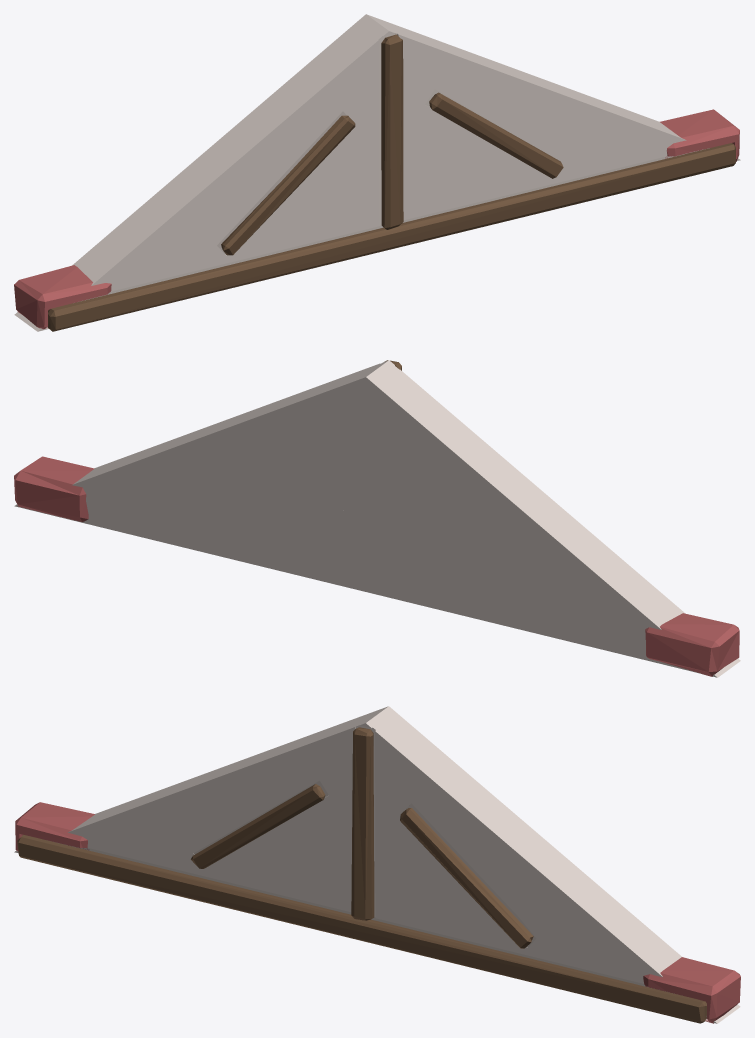
The model's file is PKF_PKX_Gable_4m_v1.fbx.
The picture shows the model from 3 angles, top to bottom: view 1: azimuth 30°, elevation 25°; view 2: azimuth 150°, elevation 25°; view 3: azimuth 330°, elevation 25°; orthographic projection.
Visible parts, largest first — view 1: PKX_Gable_4m_Chunk_12, PKX_Gable_4m_Chunk_04, PKX_Gable_4m_Chunk_06, PKX_Gable_4m_Chunk_07, PKX_Gable_4m_Chunk_09, PKX_Gable_4m_Chunk_00, PKX_Gable_4m_Chunk_05, PKX_Gable_4m_Chunk_11, PKX_Gable_4m_Chunk_10, PKX_Gable_4m_Chunk_03, PKX_Gable_4m_Chunk_15, PKX_Gable_4m_Chunk_02 (+4 smaller); view 2: PKX_Gable_4m_Chunk_04, PKX_Gable_4m_Chunk_00, PKX_Gable_4m_Chunk_06, PKX_Gable_4m_Chunk_07, PKX_Gable_4m_Chunk_09, PKX_Gable_4m_Chunk_11, PKX_Gable_4m_Chunk_05, PKX_Gable_4m_Chunk_02, PKX_Gable_4m_Chunk_10, PKX_Gable_4m_Chunk_01, PKX_Gable_4m_Chunk_03, PKX_Gable_4m_Chunk_08; view 3: PKX_Gable_4m_Chunk_12, PKX_Gable_4m_Chunk_06, PKX_Gable_4m_Chunk_00, PKX_Gable_4m_Chunk_04, PKX_Gable_4m_Chunk_09, PKX_Gable_4m_Chunk_10, PKX_Gable_4m_Chunk_11, PKX_Gable_4m_Chunk_07, PKX_Gable_4m_Chunk_05, PKX_Gable_4m_Chunk_03, PKX_Gable_4m_Chunk_15, PKX_Gable_4m_Chunk_01 (+4 smaller).
Part boxes in pixels (left/top/right/bottom): PKX_Gable_4m_Chunk_12: left=48, top=143, right=735, bottom=331; PKX_Gable_4m_Chunk_04: left=14, top=196, right=195, bottom=331; PKX_Gable_4m_Chunk_06: left=481, top=56, right=670, bottom=178; PKX_Gable_4m_Chunk_07: left=205, top=87, right=311, bottom=211; PKX_Gable_4m_Chunk_09: left=281, top=61, right=372, bottom=211; PKX_Gable_4m_Chunk_00: left=479, top=109, right=740, bottom=204; PKX_Gable_4m_Chunk_05: left=153, top=152, right=256, bottom=273; PKX_Gable_4m_Chunk_11: left=311, top=14, right=458, bottom=94; PKX_Gable_4m_Chunk_10: left=417, top=40, right=504, bottom=157; PKX_Gable_4m_Chunk_03: left=407, top=141, right=491, bottom=218; PKX_Gable_4m_Chunk_15: left=381, top=34, right=403, bottom=229; PKX_Gable_4m_Chunk_02: left=321, top=169, right=421, bottom=241; PKX_Gable_4m_Chunk_04: left=556, top=542, right=740, bottom=677; PKX_Gable_4m_Chunk_00: left=14, top=456, right=283, bottom=571; PKX_Gable_4m_Chunk_06: left=85, top=402, right=273, bottom=523; PKX_Gable_4m_Chunk_07: left=443, top=433, right=549, bottom=559; PKX_Gable_4m_Chunk_09: left=382, top=407, right=474, bottom=557; PKX_Gable_4m_Chunk_11: left=297, top=360, right=443, bottom=440; PKX_Gable_4m_Chunk_05: left=492, top=498, right=601, bottom=626; PKX_Gable_4m_Chunk_02: left=328, top=515, right=433, bottom=606; PKX_Gable_4m_Chunk_10: left=251, top=385, right=338, bottom=503; PKX_Gable_4m_Chunk_01: left=427, top=551, right=558, bottom=638; PKX_Gable_4m_Chunk_03: left=263, top=487, right=347, bottom=582; PKX_Gable_4m_Chunk_08: left=335, top=433, right=386, bottom=520; PKX_Gable_4m_Chunk_12: left=17, top=834, right=706, bottom=1023; PKX_Gable_4m_Chunk_06: left=461, top=805, right=669, bottom=963; PKX_Gable_4m_Chunk_00: left=458, top=920, right=740, bottom=1023; PKX_Gable_4m_Chunk_04: left=14, top=785, right=174, bottom=871; PKX_Gable_4m_Chunk_09: left=280, top=726, right=349, bottom=870; PKX_Gable_4m_Chunk_10: left=393, top=765, right=503, bottom=876; PKX_Gable_4m_Chunk_11: left=311, top=706, right=457, bottom=794; PKX_Gable_4m_Chunk_07: left=205, top=738, right=302, bottom=858; PKX_Gable_4m_Chunk_05: left=152, top=765, right=232, bottom=873; PKX_Gable_4m_Chunk_03: left=384, top=863, right=468, bottom=940; PKX_Gable_4m_Chunk_15: left=351, top=727, right=374, bottom=920; PKX_Gable_4m_Chunk_01: left=185, top=845, right=303, bottom=902.
Size of the model in its own units: 421 by 123 by 34.39.
